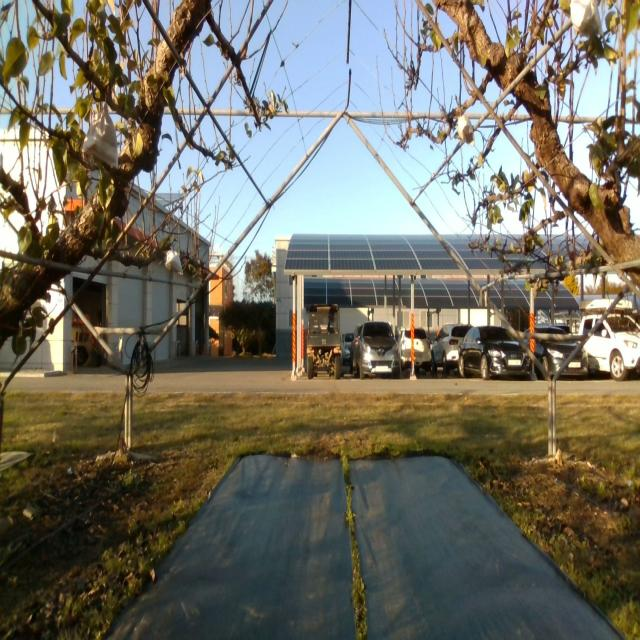pearbags: (81, 104, 119, 170), (570, 0, 604, 37), (457, 115, 475, 146), (166, 250, 183, 276)
